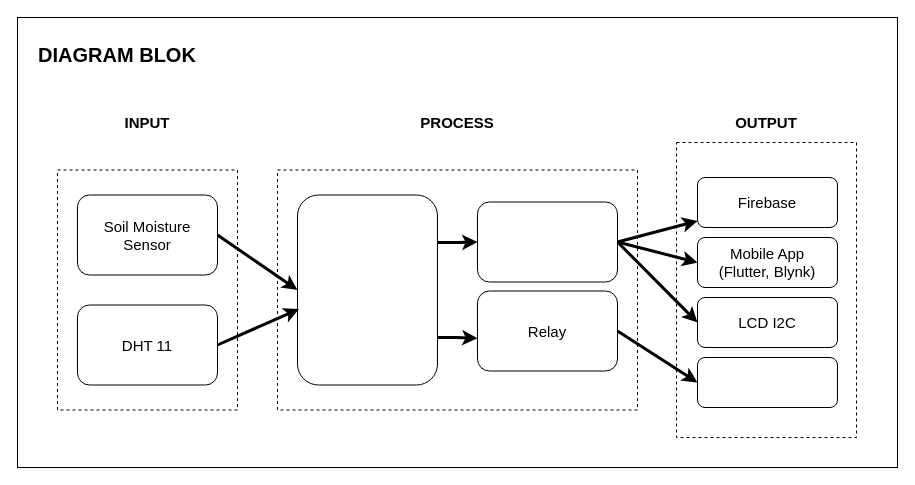
This 915x485 diagram has some shape labels left out. Here are the shapes that lost their labels. From the top down, the centre of each, then its label:
At pixel 547 241: "Internet".
At pixel 367 289: "NodeMCU ESP8266".
At pixel 767 382: "Water Pump".
